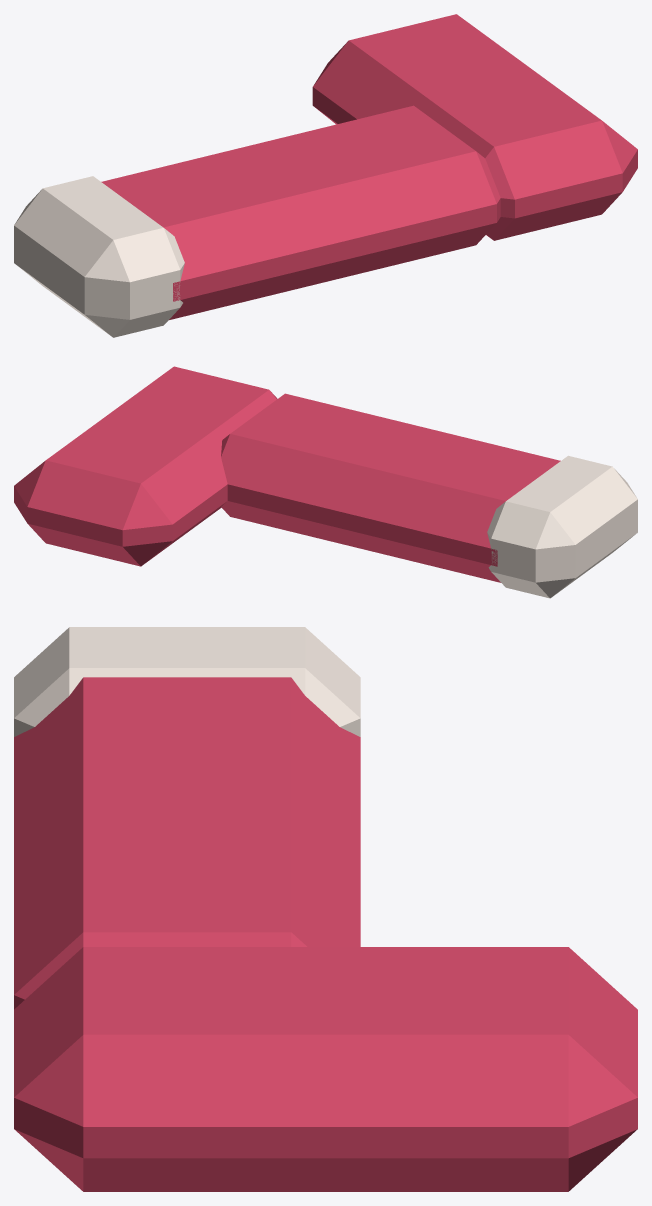
Rendered from sock.fbx.
The picture shows the model from 3 angles, top to bottom: view 1: azimuth 30°, elevation 25°; view 2: azimuth 150°, elevation 25°; view 3: azimuth 270°, elevation 25°; orthographic projection. The views are drawn at different scales.
Parts seen in each view (by area): view 1: sock; view 2: sock; view 3: sock.
Boxes of the visible parts, left/top/right/bottom form: sock: left=14, top=14, right=637, bottom=337; sock: left=14, top=366, right=637, bottom=598; sock: left=14, top=627, right=637, bottom=1191.
Bounding box in the file's own units: 0.155 × 0.026 × 0.09.
